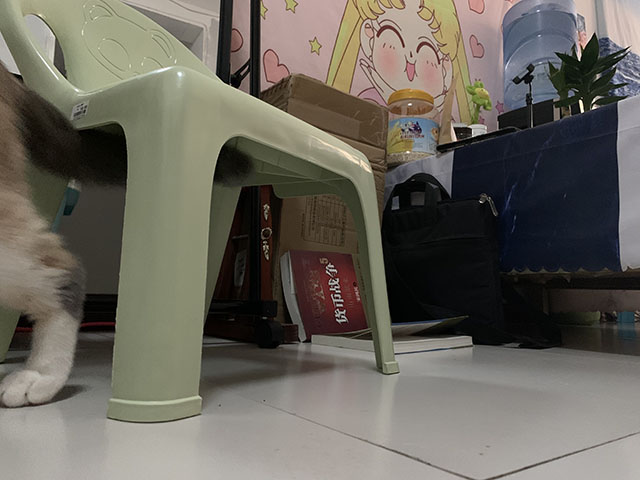book: (278, 247, 474, 355)
stool: (1, 1, 401, 425)
table: (385, 90, 640, 315)
